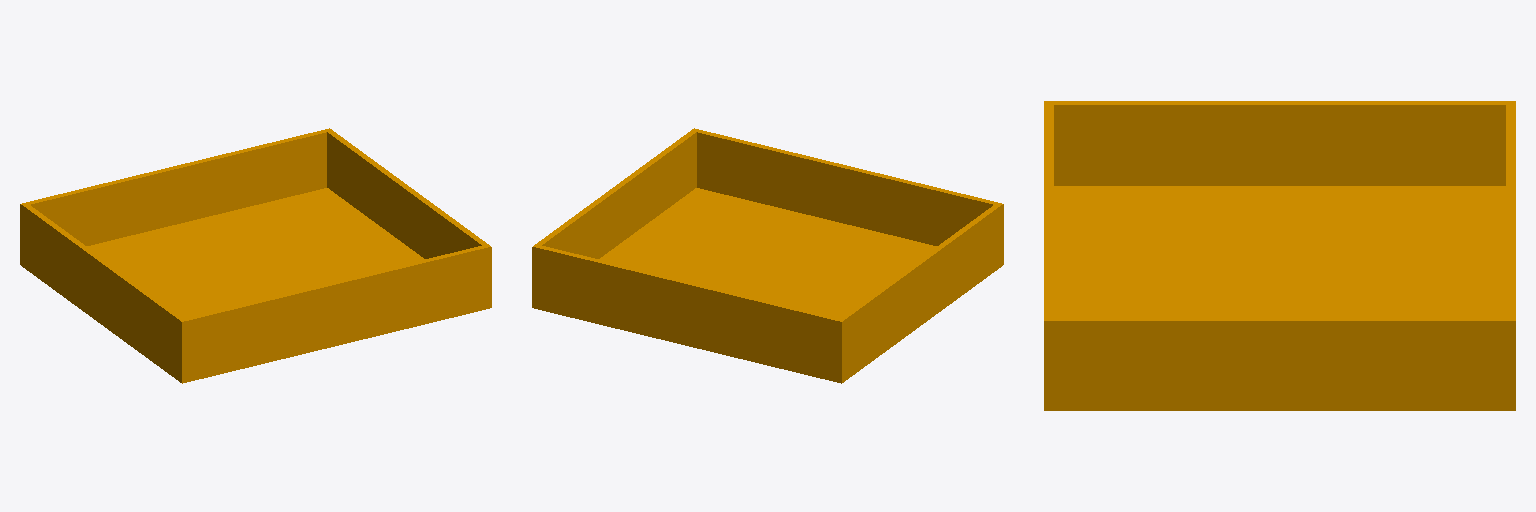
robot.urdf — pour_target_1_True:
<?xml version='1.0' encoding='utf-8'?>
<robot name="pour_target_1_True">
  <link name="body">
    <inertial>
      <origin xyz="0.0 0.0 0.020572133168927254" />
      <mass value="0.4" />
      <inertia ixx="0.0069687187160918825" iyy="0.008242615962289977" izz="0.014755052692149603" ixy="0.0" ixz="0.0" iyz="0.0" />
    </inertial>
    <collision>
      <geometry>
        <mesh filename="part_00.obj" />
      </geometry>
    </collision>
    <collision>
      <geometry>
        <mesh filename="part_01.obj" />
      </geometry>
    </collision>
    <collision>
      <geometry>
        <mesh filename="part_02.obj" />
      </geometry>
    </collision>
    <collision>
      <geometry>
        <mesh filename="part_03.obj" />
      </geometry>
    </collision>
    <collision>
      <geometry>
        <mesh filename="part_04.obj" />
      </geometry>
    </collision>
    <visual>
      <geometry>
        <mesh filename="visual.obj" />
      </geometry>
    </visual>
  </link>
</robot>

--- What the picture shows (computed from the rendered views, not written in the file) ---
3 views of the same robot in one strip: view 1: azimuth 30°, elevation 25°; view 2: azimuth 150°, elevation 25°; view 3: azimuth 270°, elevation 25° (orthographic).
Model pour_target_1_True with 1 links and 0 joints (none), rooted at body, posed all joints at 0.
Visible links, largest first — view 1: body; view 2: body; view 3: body.
Link boxes in pixels (left/top/right/bottom): body: left=20, top=128, right=491, bottom=383; body: left=532, top=128, right=1003, bottom=383; body: left=1044, top=101, right=1515, bottom=410.
Size in the robot's own frame: 0.42 by 0.38 by 0.08 metres.
1 mesh visuals loaded from 1 distinct referenced files (1 OBJ).
